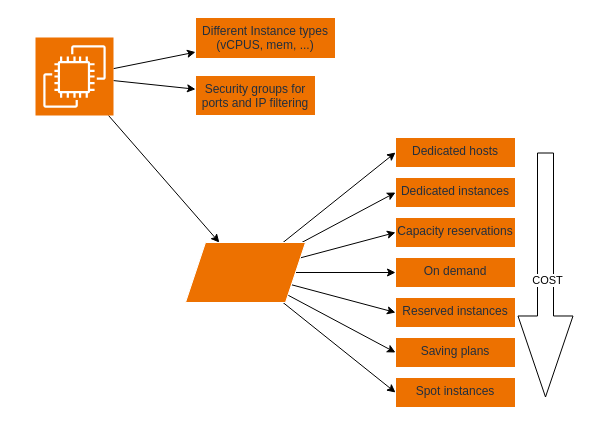
Some shapes in this 591 by 425 pixel diagram are drawn without their labels. Here are the shapes that lost their labels. From the top down, the centre of each, then its label:
the point at 74,76: EC2 Rent virtual machines
the point at 245,272: Different renting fares
